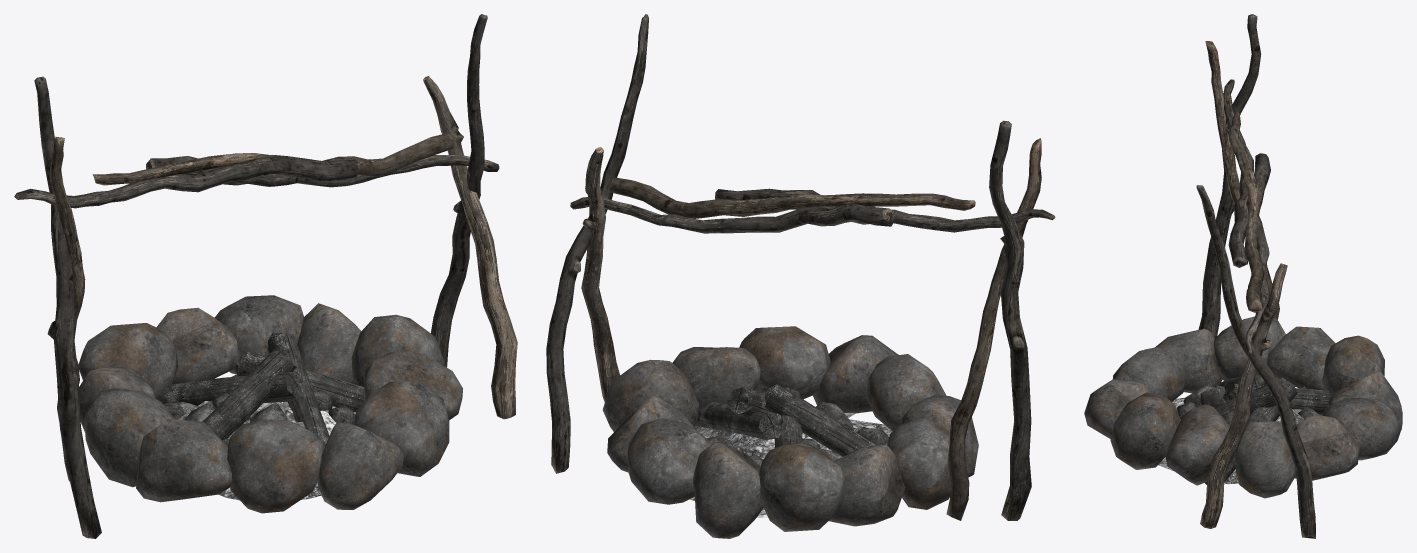
File: SM_Bonfire_A.fbx
The picture shows the model from 3 angles, left to right: view 1: azimuth 30°, elevation 25°; view 2: azimuth 150°, elevation 25°; view 3: azimuth 270°, elevation 25°; orthographic projection. The views are drawn at different scales.
Parts seen in each view (by area): view 1: SM_Bonfire_A_LOD0; view 2: SM_Bonfire_A_LOD0; view 3: SM_Bonfire_A_LOD0.
Part boxes in pixels (left/top/right/bottom): SM_Bonfire_A_LOD0: left=14, top=14, right=517, bottom=538; SM_Bonfire_A_LOD0: left=546, top=14, right=1055, bottom=538; SM_Bonfire_A_LOD0: left=1084, top=14, right=1402, bottom=538.
Bounding box in the file's own units: 159 × 110 × 136.
Materials: 1 (1 with a texture image).
